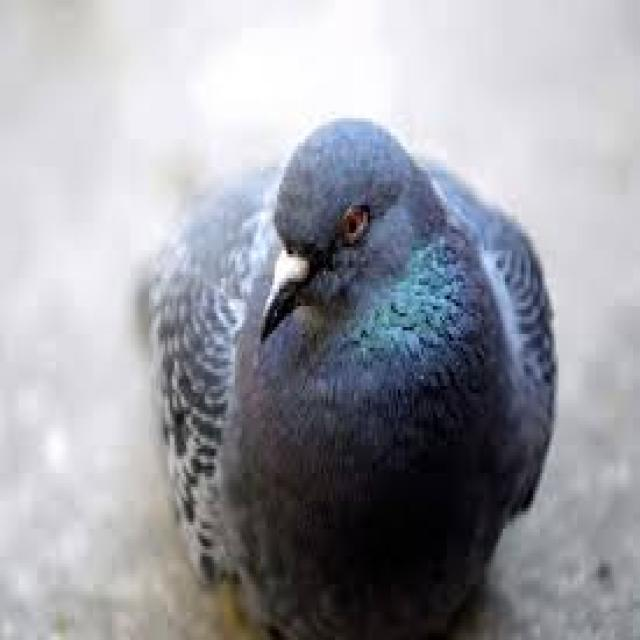pigeon: (130, 80, 566, 640)
